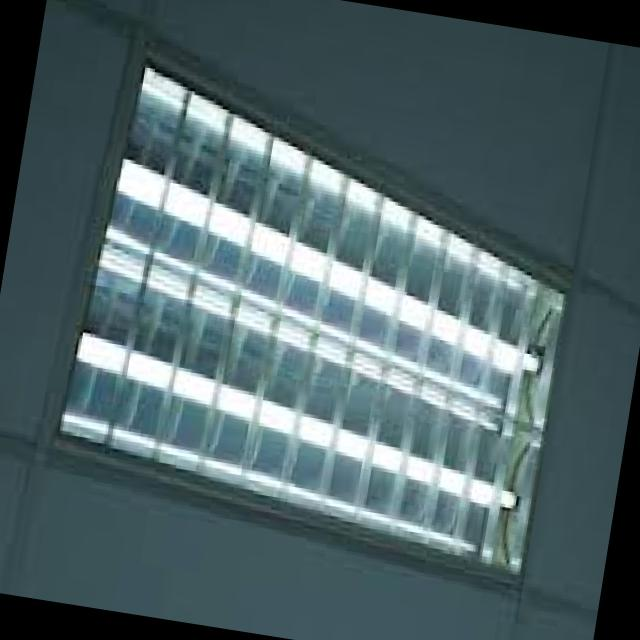light: (51, 52, 574, 584)
